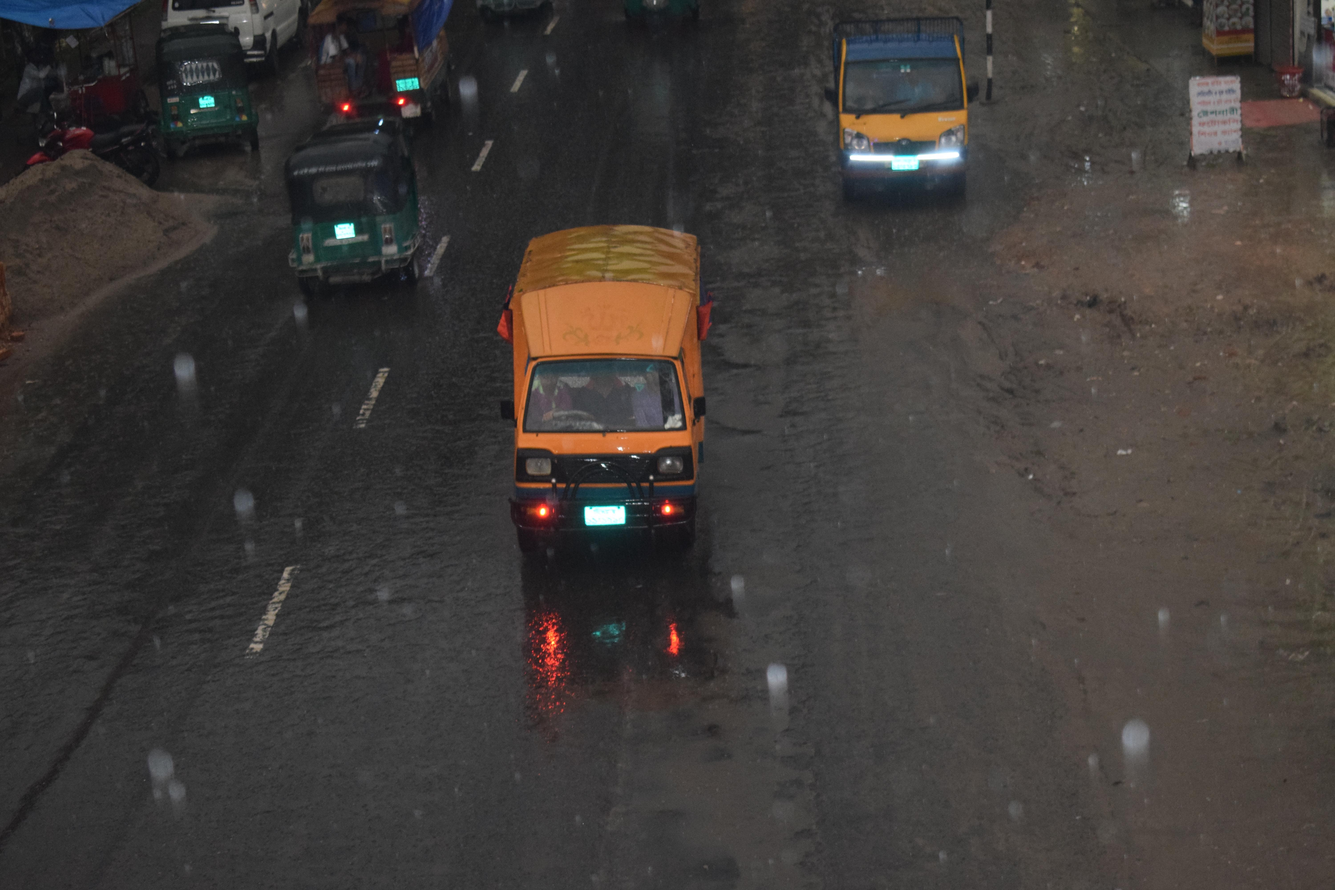Bike: (0, 93, 185, 189)
Car: (442, 190, 772, 631), (278, 0, 485, 142), (168, 0, 310, 77)
Truck: (780, 0, 1001, 260)
